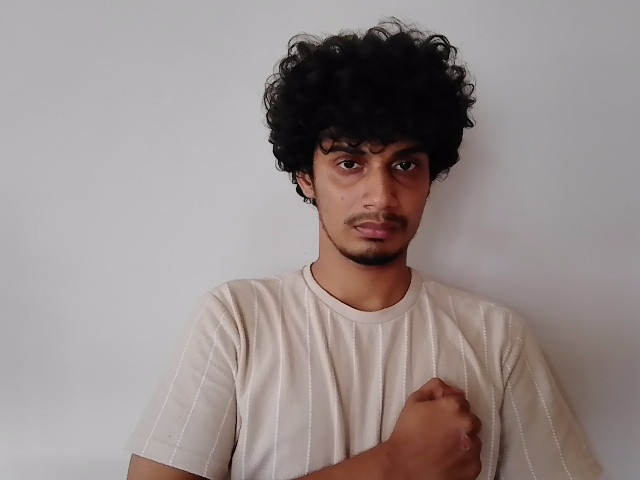sorry: (360, 263, 577, 480)
